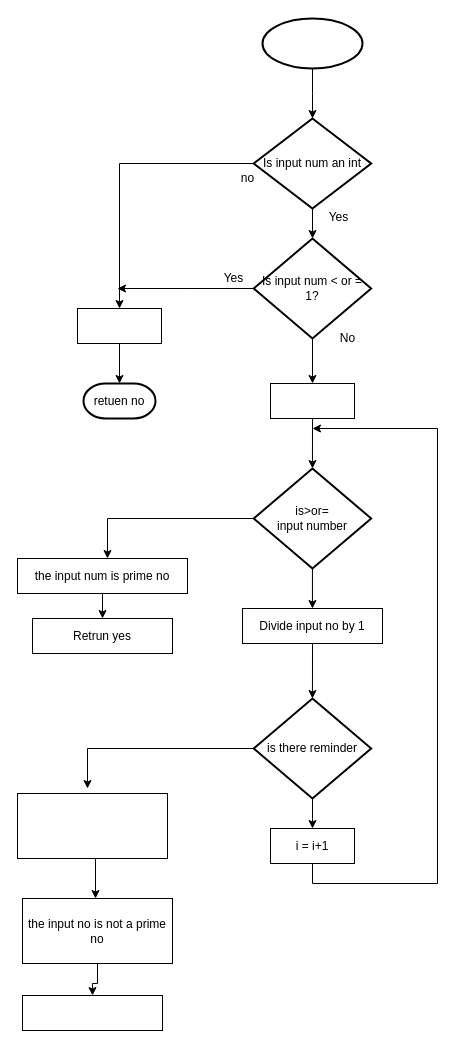
The diagram is 463 pixels wide and 1048 high, and some of its shapes have lost their labels. Here are the shapes that lost their labels. From the top down, the centre of each, then its label:
At point 312,43: "Start".
At point 119,326: "Prime num is int >1".
At point 312,400: "i =2".
At point 92,825: "input no was eveny divide by i it is not a prime no".
At point 92,1012: "Retrun no".
